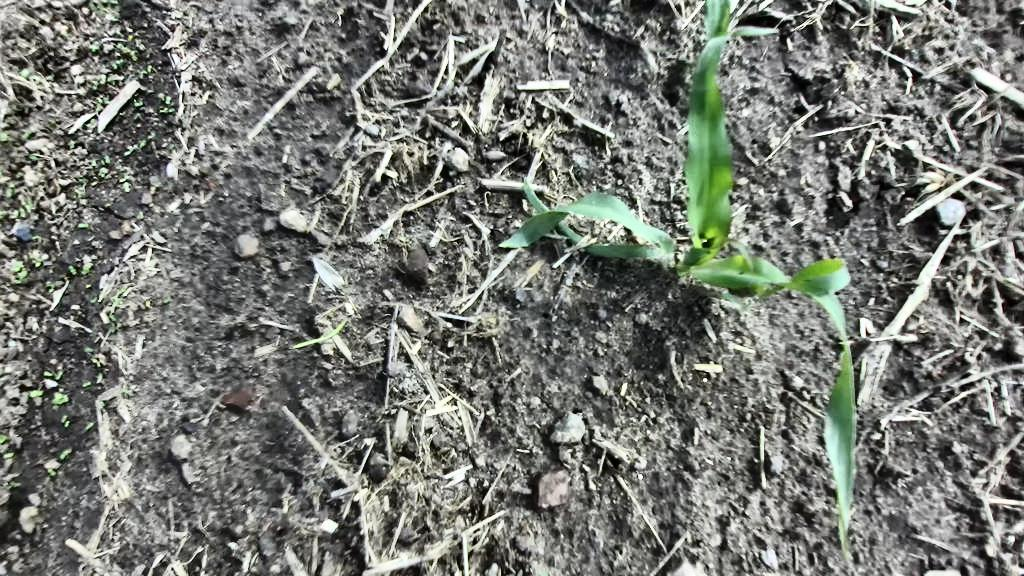BroWeed: (106, 285, 124, 313), (16, 190, 35, 214), (23, 251, 44, 269), (45, 277, 67, 294), (51, 390, 70, 407), (113, 41, 133, 57), (77, 259, 94, 277), (8, 258, 25, 274), (27, 152, 46, 165), (57, 446, 72, 461), (15, 205, 28, 220), (14, 269, 29, 282), (104, 12, 120, 24), (28, 387, 44, 399), (74, 186, 88, 199), (20, 66, 33, 79), (66, 263, 79, 276), (133, 112, 147, 124), (89, 356, 103, 368), (136, 67, 149, 79), (121, 147, 135, 158), (8, 480, 22, 491), (132, 98, 144, 110), (66, 138, 77, 151), (127, 49, 138, 61), (137, 138, 148, 150), (157, 105, 170, 115), (15, 276, 29, 285), (21, 129, 32, 140), (0, 433, 11, 444), (98, 74, 108, 86), (99, 167, 109, 179), (54, 369, 64, 381), (80, 380, 92, 390), (77, 176, 90, 185), (106, 312, 116, 323), (161, 296, 172, 306), (91, 80, 100, 92), (83, 345, 95, 354), (60, 412, 69, 424), (95, 372, 104, 384), (0, 208, 10, 218), (9, 209, 19, 219), (85, 421, 95, 431), (43, 370, 54, 379), (95, 97, 109, 104), (2, 451, 14, 459), (6, 186, 13, 199), (32, 235, 42, 244), (89, 296, 99, 305), (63, 419, 72, 429), (46, 467, 56, 476), (123, 181, 131, 192), (97, 167, 105, 178), (99, 0, 120, 4), (0, 132, 8, 142), (103, 154, 110, 165), (115, 57, 124, 65), (126, 33, 134, 42), (146, 65, 153, 75), (77, 223, 88, 229), (167, 107, 175, 115), (96, 102, 102, 112), (110, 63, 118, 70), (145, 300, 150, 311), (91, 159, 96, 168), (165, 96, 170, 103), (100, 158, 105, 165), (91, 46, 95, 52)
NarWeed: (289, 318, 350, 354)
